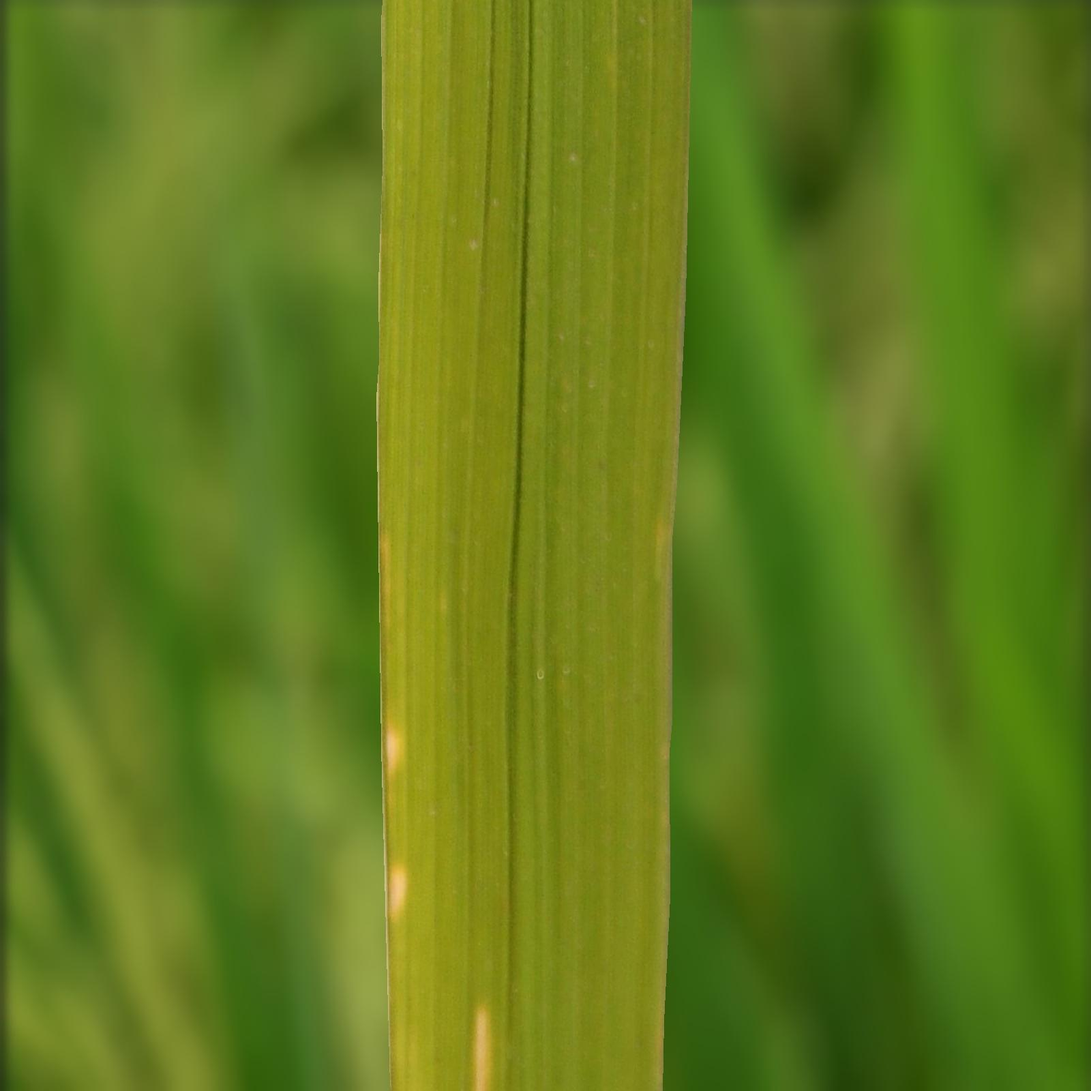BLS: (473, 1006, 490, 1090), (380, 529, 391, 629), (389, 864, 407, 919), (386, 721, 402, 775)
LEAF: (377, 0, 692, 1090)
